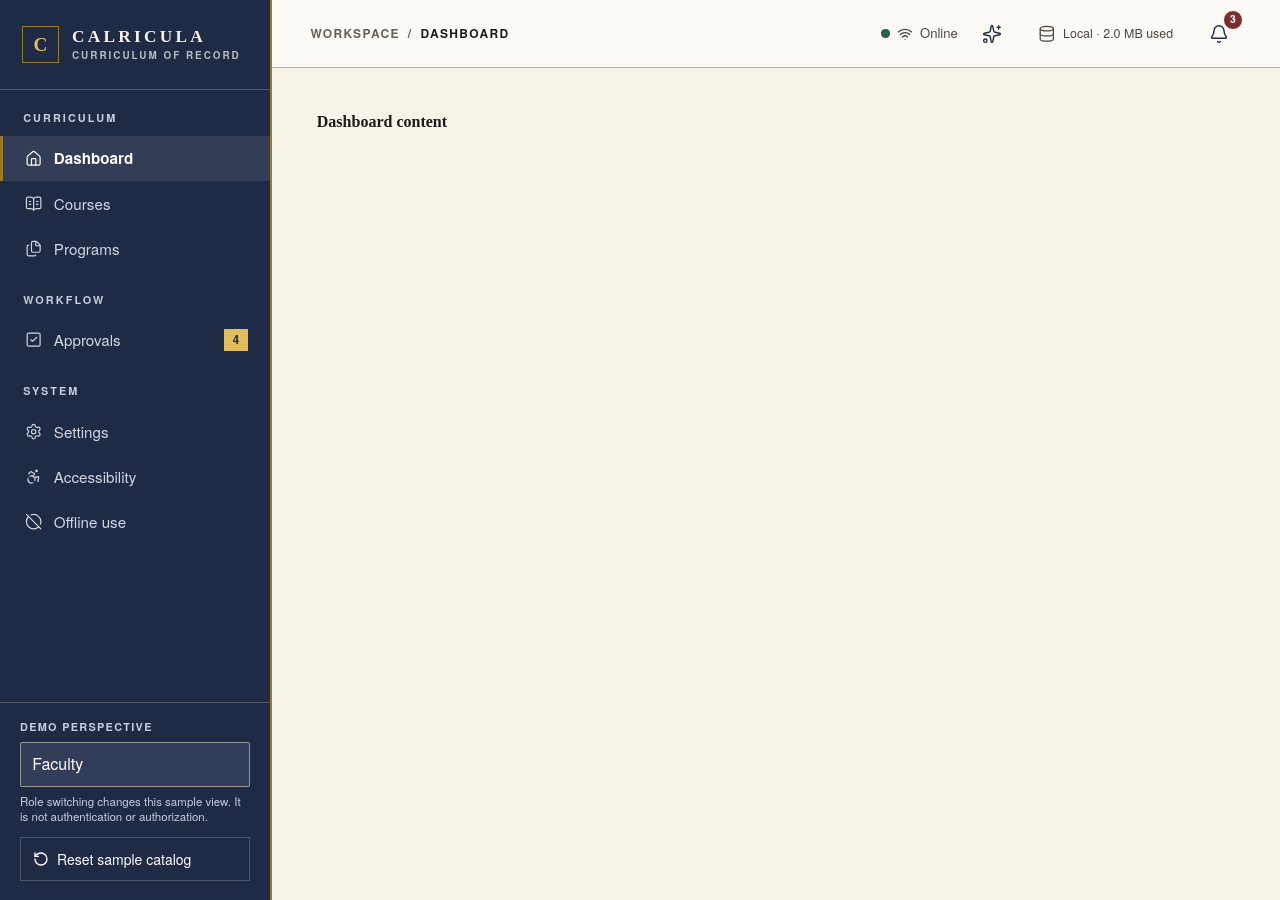
it: AppShell › confirms reset and preserves the backup-before-reset ordering
This screenshot has width=1280, height=900.
Click the button "Reset sample catalog" at (135, 859), box [20,837,250,881]
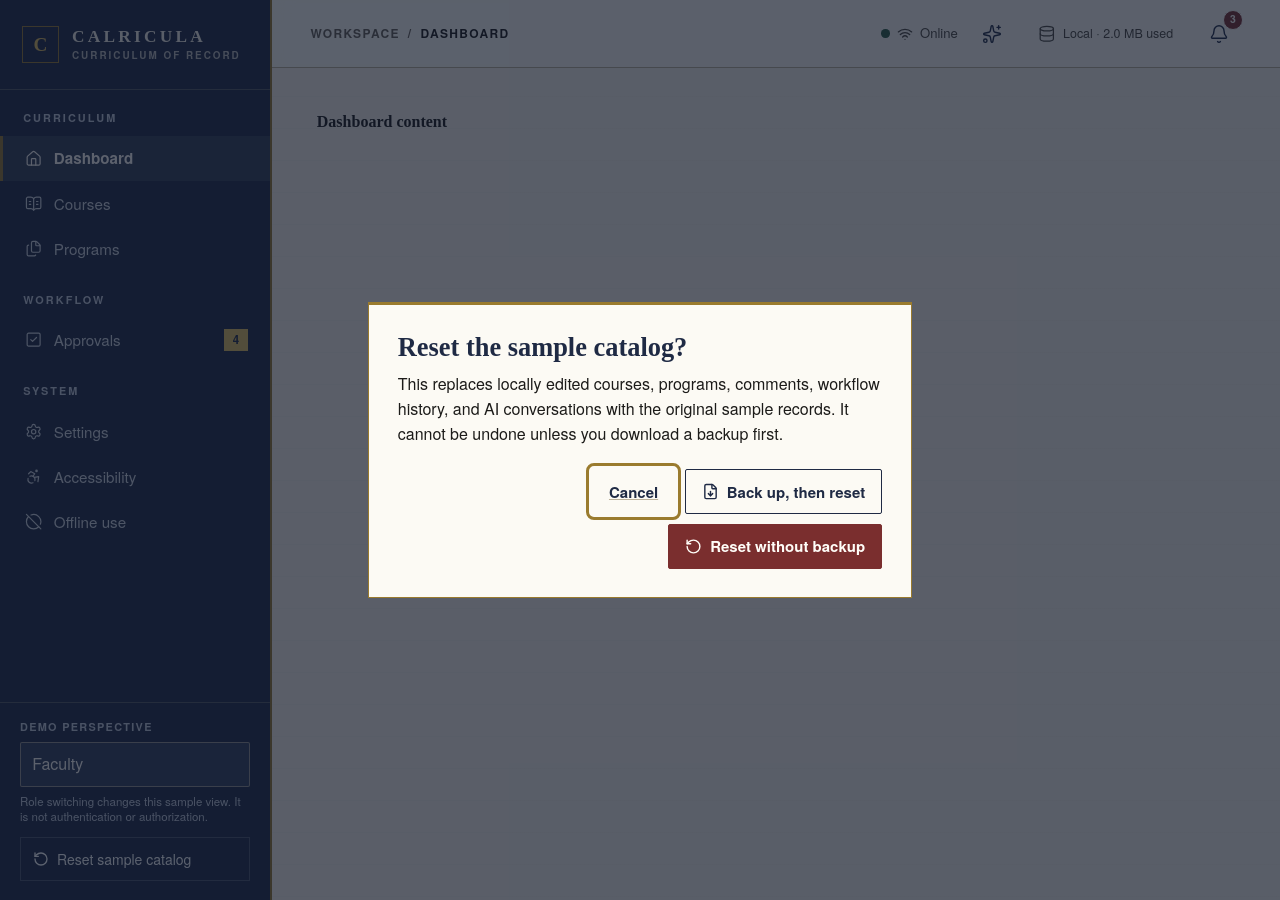
Result: the dialog "Reset the sample catalog?" is shown at [368,302,912,598]
Click the button "Back up, then reset" at (784, 492), box [685,469,882,514]
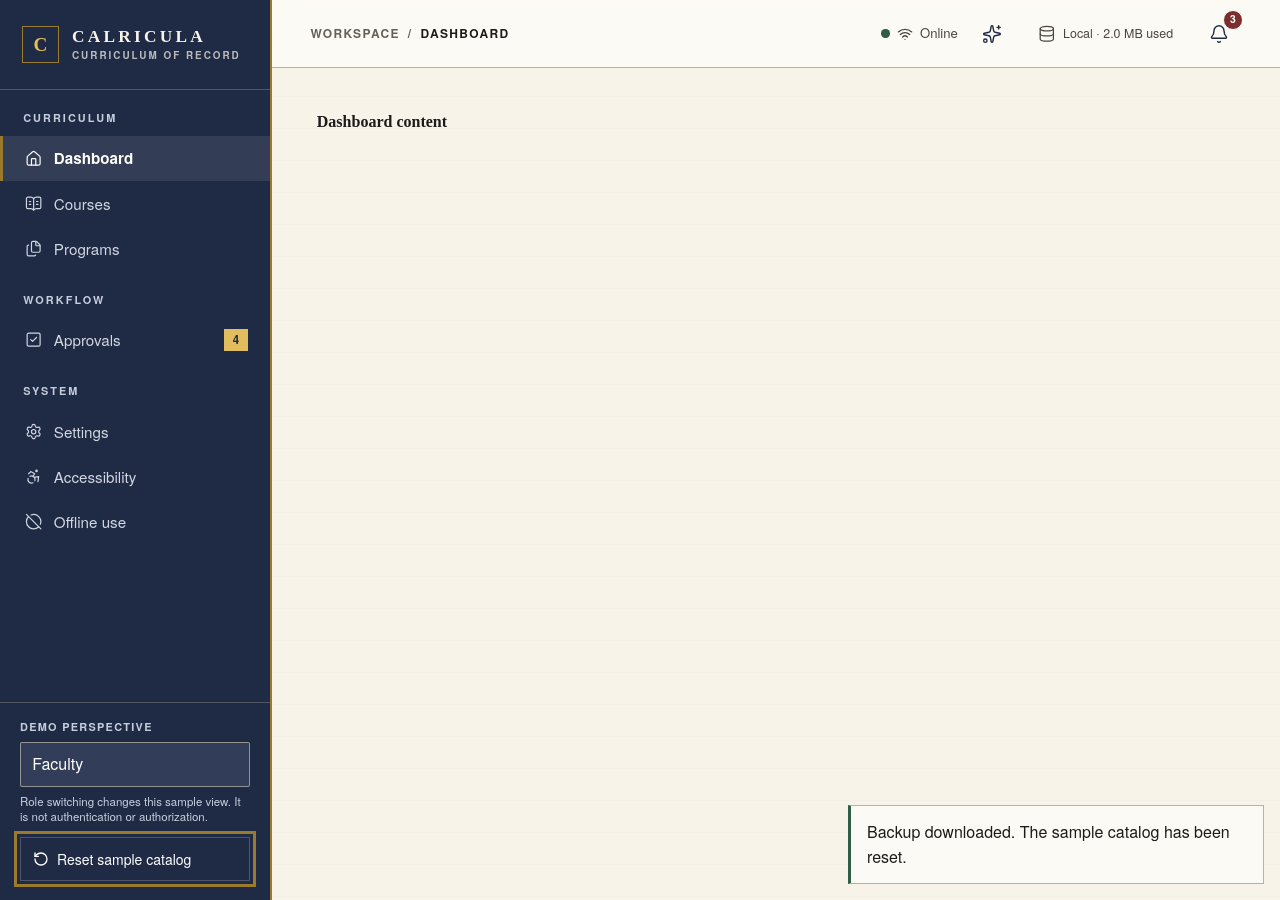
Result: the text "Backup downloaded. The sample catalog has been reset." is shown at [848,805,1264,884]
